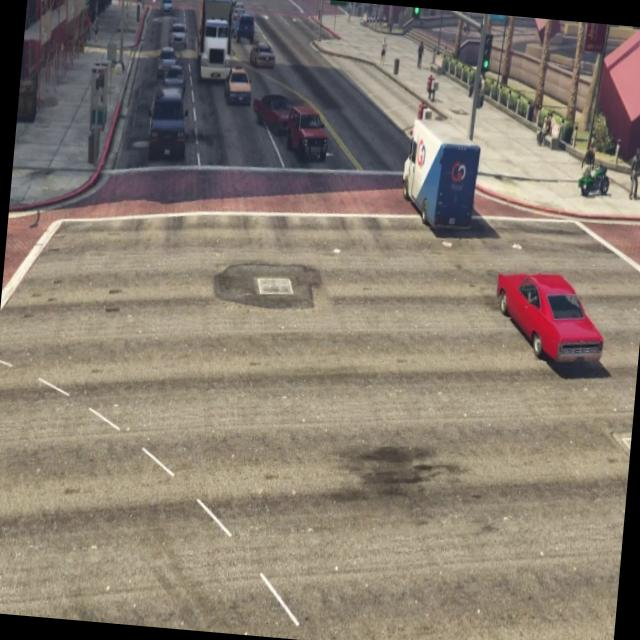Green-Signal: (478, 26, 496, 86), (408, 7, 424, 30), (326, 0, 350, 13)
